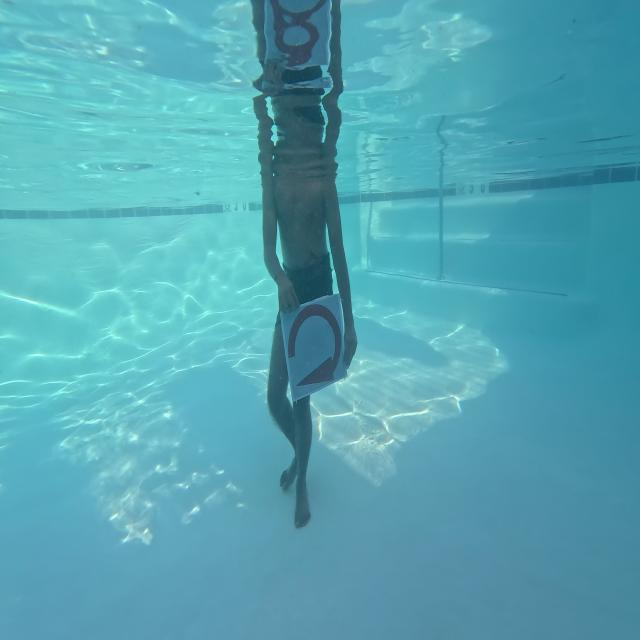red_side: (272, 289, 349, 397)
